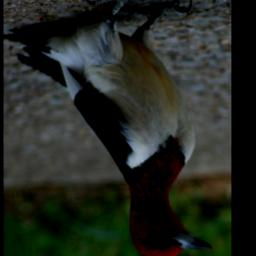Woodpecker: (3, 0, 219, 256)
